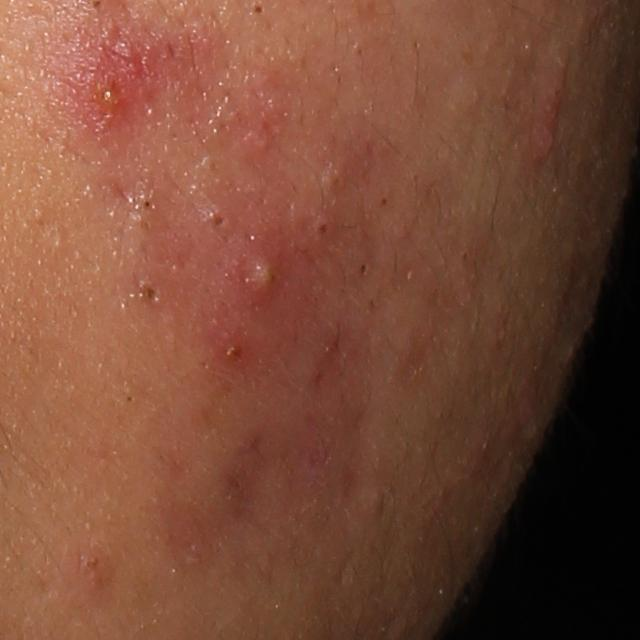comedo: (135, 193, 163, 223), (204, 210, 229, 238), (307, 218, 331, 245), (352, 260, 371, 287), (138, 283, 158, 308)
papule: (80, 50, 153, 134), (526, 84, 566, 164)
pustule: (240, 247, 279, 300)
